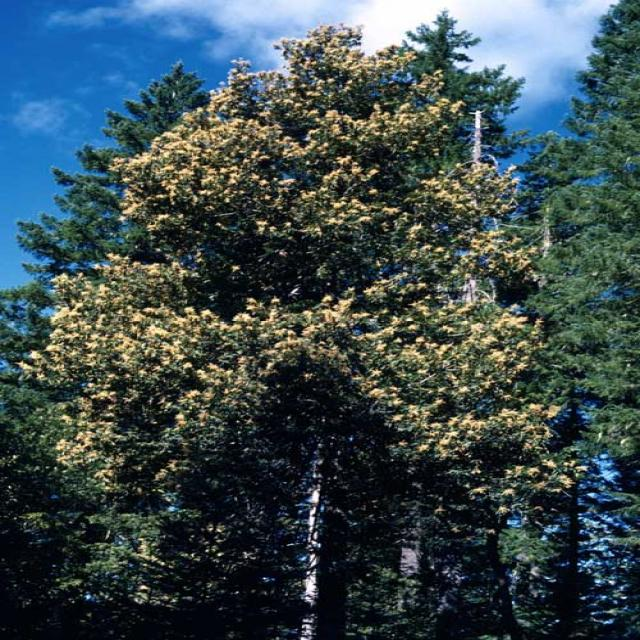Chrysolepis chrysophylla: (75, 22, 536, 637)
